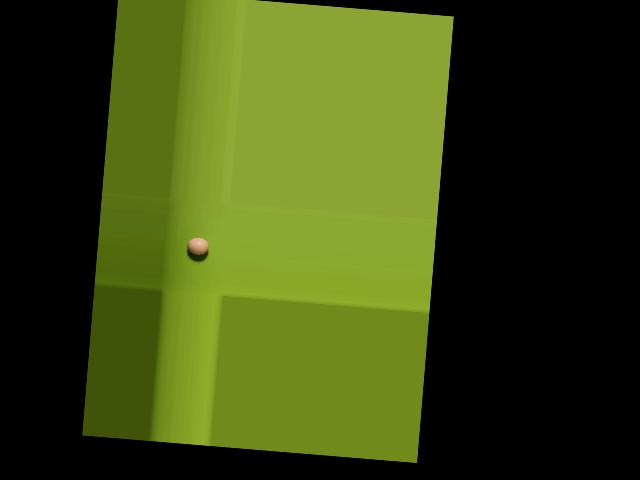egg: (185, 237, 209, 255)
